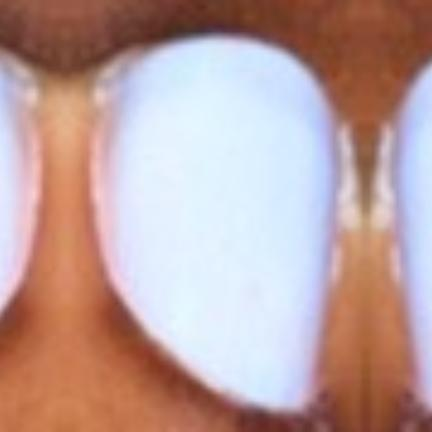Nail: (89, 34, 339, 416), (393, 62, 432, 412), (0, 54, 41, 317)
